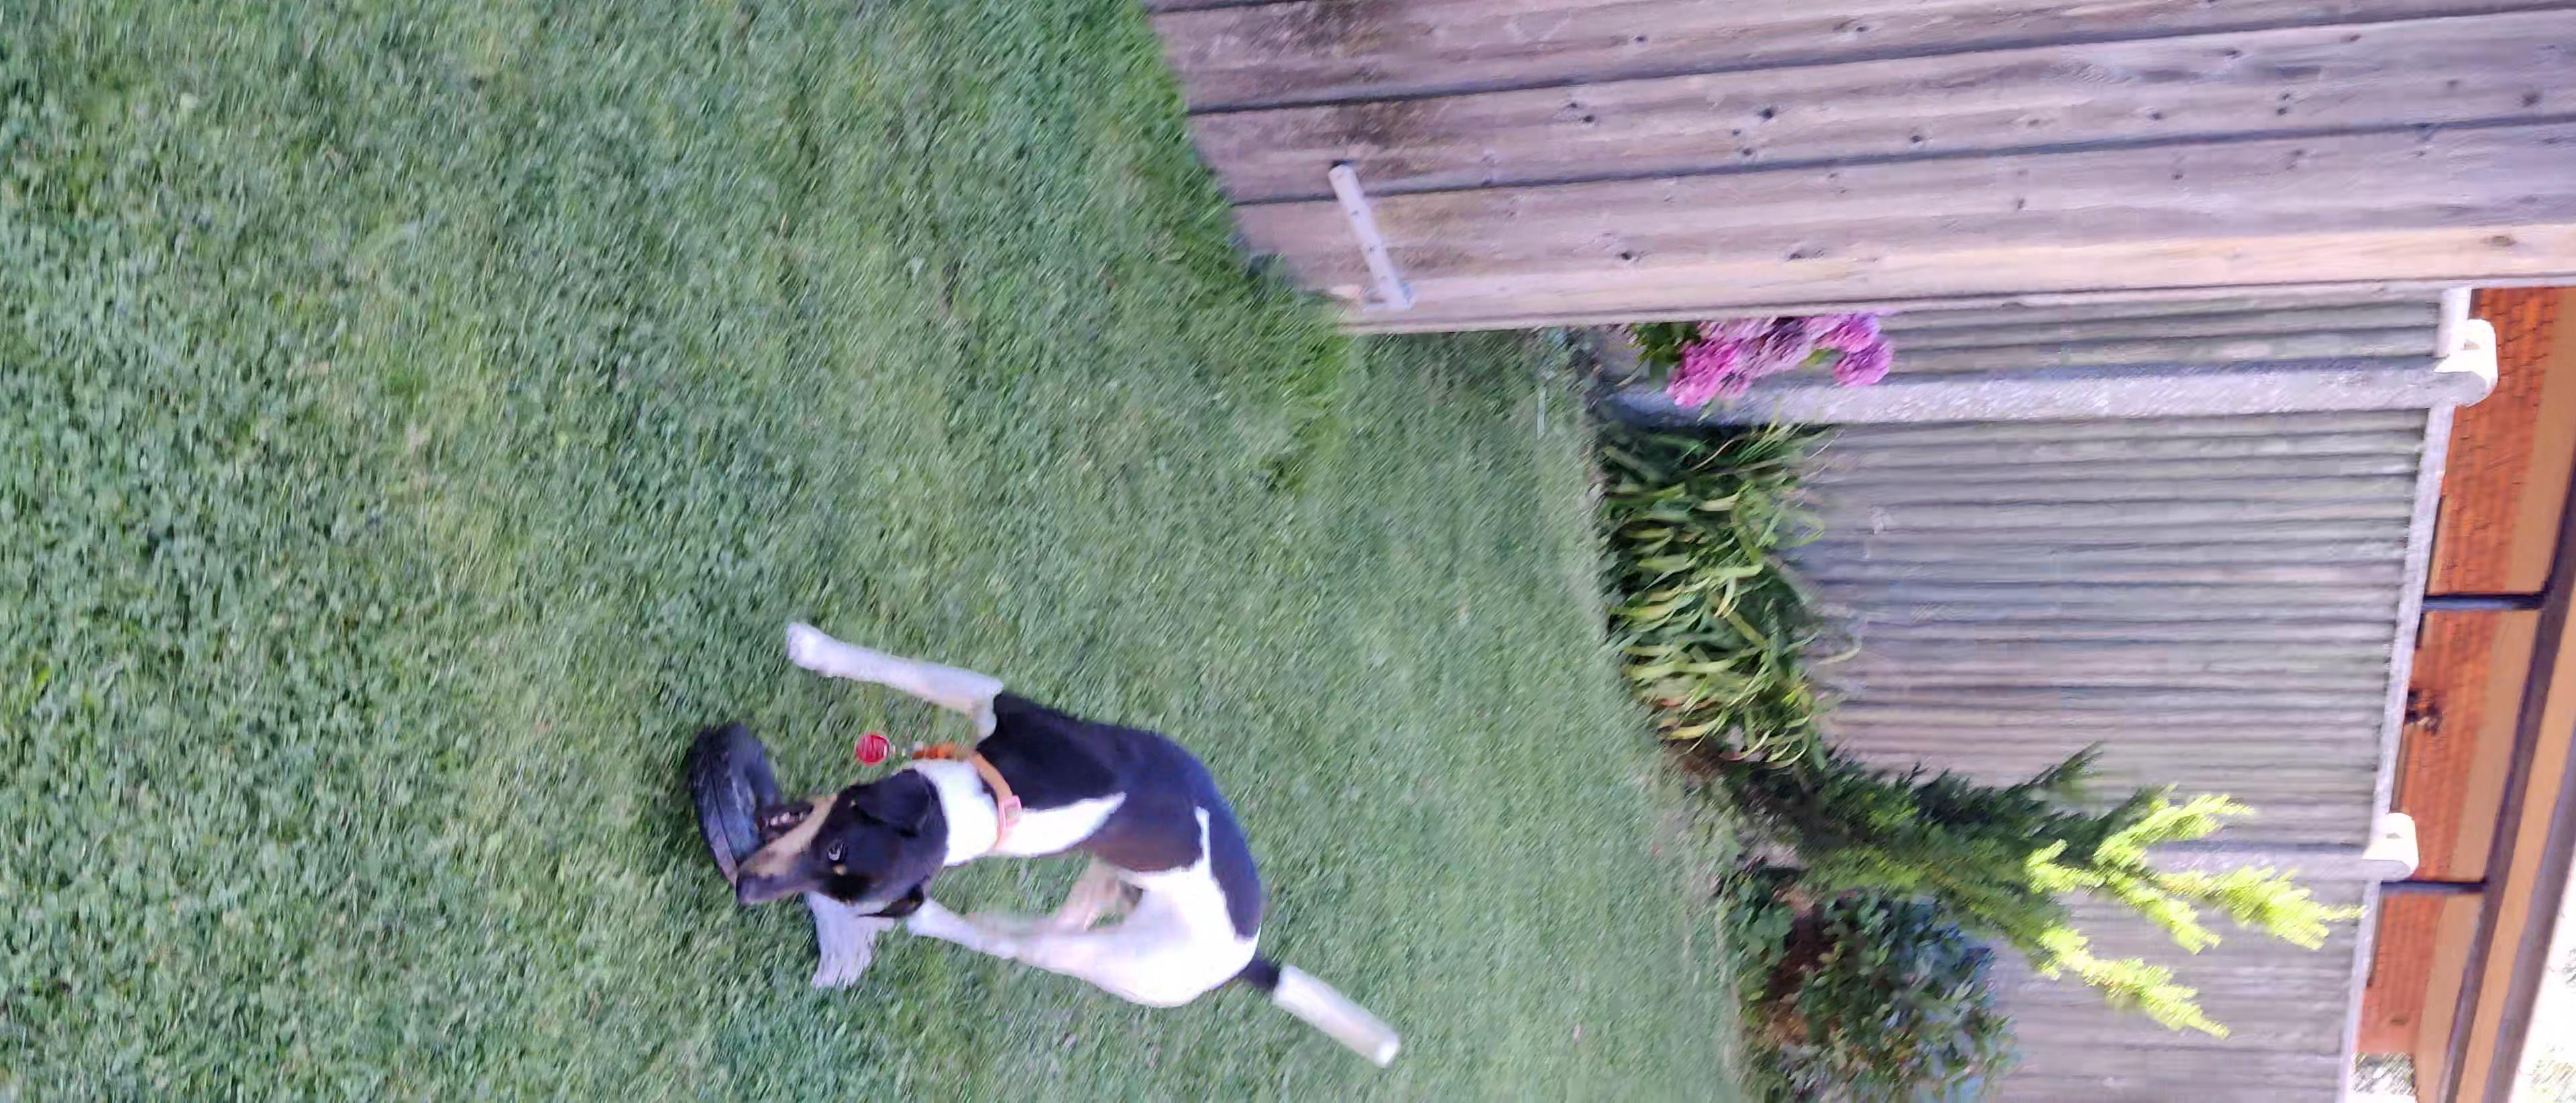Dog: (695, 584, 1413, 1075)
